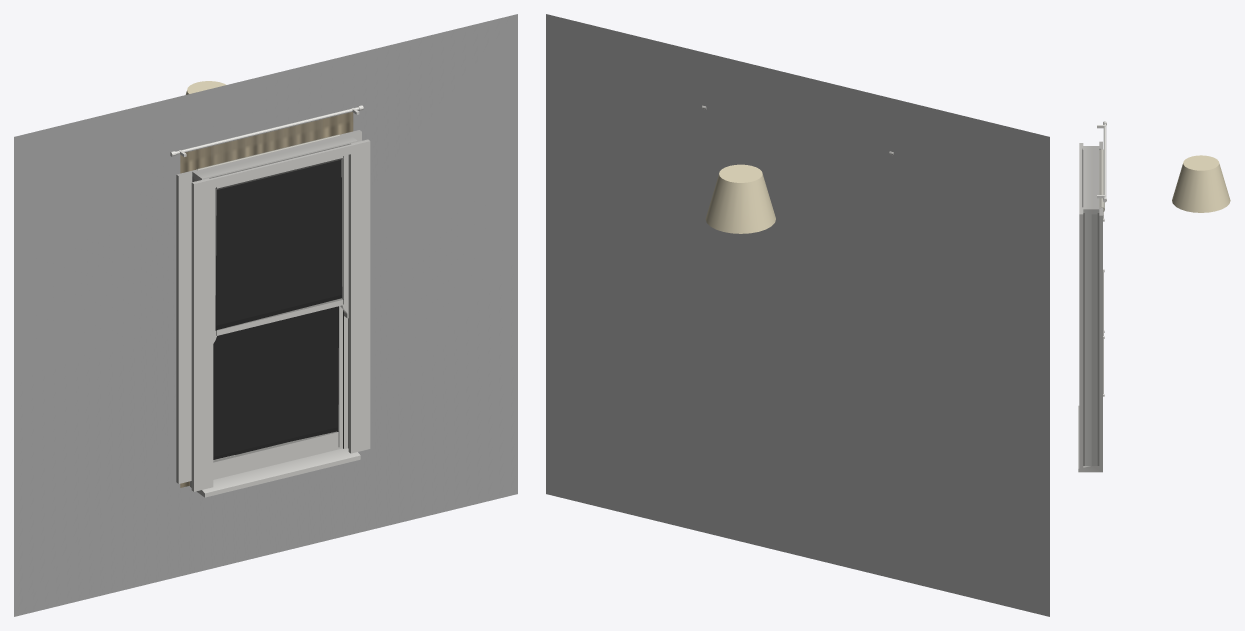
The picture shows the model from 3 angles, left to right: view 1: azimuth 30°, elevation 25°; view 2: azimuth 150°, elevation 25°; view 3: azimuth 270°, elevation 25°; orthographic projection. The views are drawn at different scales.
Parts seen in each view (by area): view 1: room__card, glass__upper, glass__lower, paint_joinery__outer_lining_R, paint_joinery__outer_lining_L, paint_joinery__inner_lining_L, curtain__C1_drawn, paint_joinery__oak_sill, paint_joinery__lower_bottom_rail, paint_joinery__head_outer_lining, paint_joinery__head_lining, paint_joinery__upper_stile_R (+2 smaller); view 2: room__card, pendant__shade; view 3: paint_joinery__pulley_stile_R, pendant__shade, paint_joinery__outer_lining_R, paint_joinery__head_lining, paint_joinery__inner_lining_R, paint_joinery__head_outer_lining, blind_roller__B2, curtain_pole, paint_joinery__oak_sill.
Boxes of the visible parts, x1=… form: room__card: x1=14, y1=14, x2=517, y2=616; glass__upper: x1=215, y1=159, x2=343, y2=330; glass__lower: x1=213, y1=306, x2=338, y2=459; paint_joinery__outer_lining_R: x1=348, y1=140, x2=370, y2=453; paint_joinery__outer_lining_L: x1=191, y1=178, x2=213, y2=491; paint_joinery__inner_lining_L: x1=176, y1=170, x2=196, y2=483; curtain__C1_drawn: x1=180, y1=112, x2=353, y2=487; paint_joinery__oak_sill: x1=190, y1=446, x2=360, y2=497; paint_joinery__lower_bottom_rail: x1=213, y1=432, x2=337, y2=479; paint_joinery__head_outer_lining: x1=191, y1=139, x2=370, y2=192; paint_joinery__head_lining: x1=192, y1=134, x2=357, y2=180; paint_joinery__upper_stile_R: x1=341, y1=155, x2=348, y2=304; room__card: x1=546, y1=14, x2=1049, y2=616; pendant__shade: x1=705, y1=164, x2=775, y2=233; paint_joinery__pulley_stile_R: x1=1083, y1=214, x2=1099, y2=465; pendant__shade: x1=1172, y1=155, x2=1230, y2=212; paint_joinery__outer_lining_R: x1=1079, y1=207, x2=1083, y2=469; paint_joinery__head_lining: x1=1083, y1=146, x2=1099, y2=214; paint_joinery__inner_lining_R: x1=1099, y1=208, x2=1102, y2=471; paint_joinery__head_outer_lining: x1=1079, y1=144, x2=1083, y2=221; blind_roller__B2: x1=1099, y1=149, x2=1104, y2=211; curtain_pole: x1=1103, y1=123, x2=1106, y2=197; paint_joinery__oak_sill: x1=1078, y1=405, x2=1102, y2=472.
Bounding box in the file's own units: 2.8 × 2.55 × 0.8817.
Materials: 7 (3 with a texture image).
